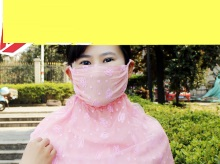face_mask: (72, 42, 127, 106)
